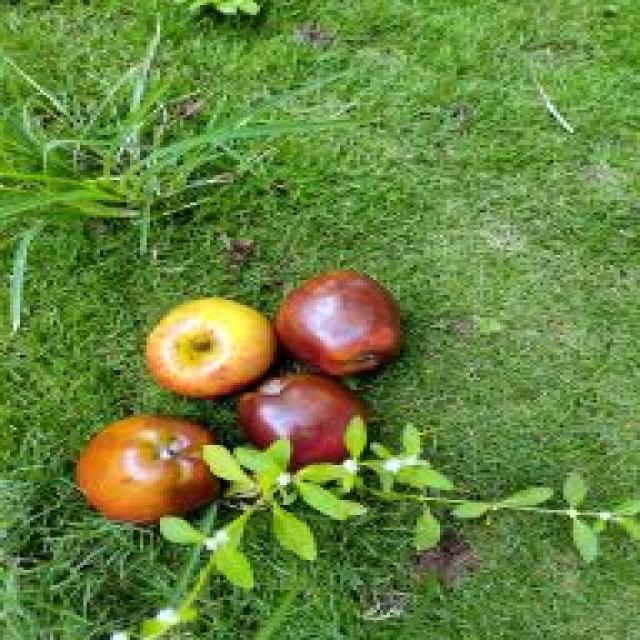Organik: (272, 266, 434, 388), (68, 412, 234, 530), (126, 294, 286, 403), (226, 377, 388, 480)
